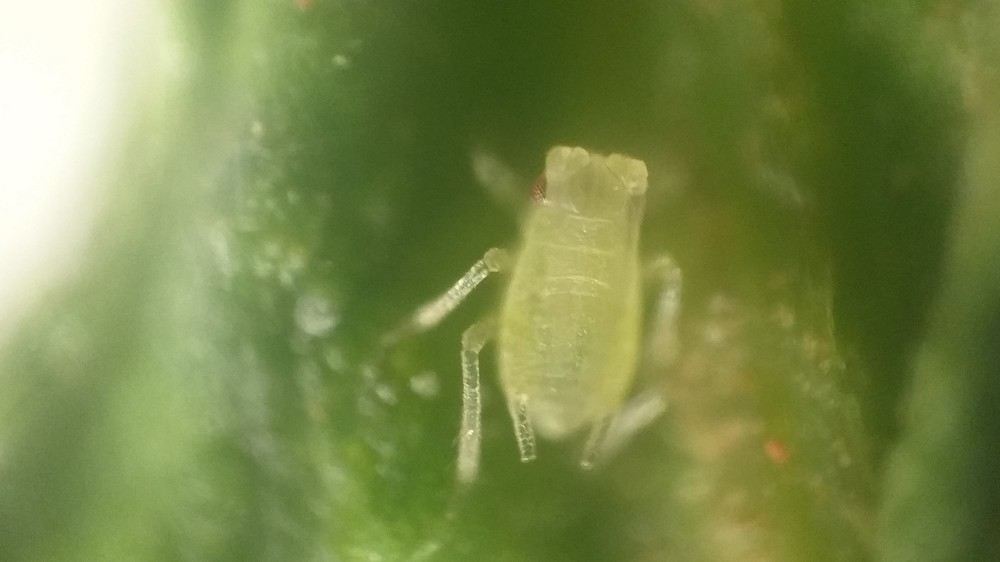Pulgon: (375, 108, 728, 514)
